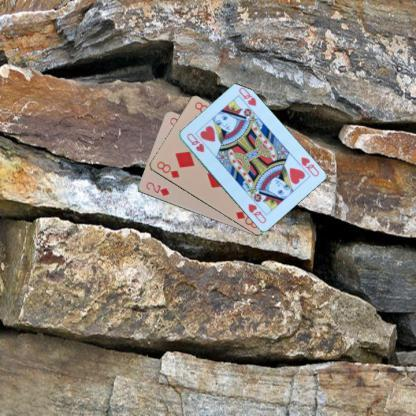2d: (143, 180, 172, 198)
8d: (154, 158, 180, 180)
Qh: (184, 130, 206, 154), (298, 154, 320, 178)
